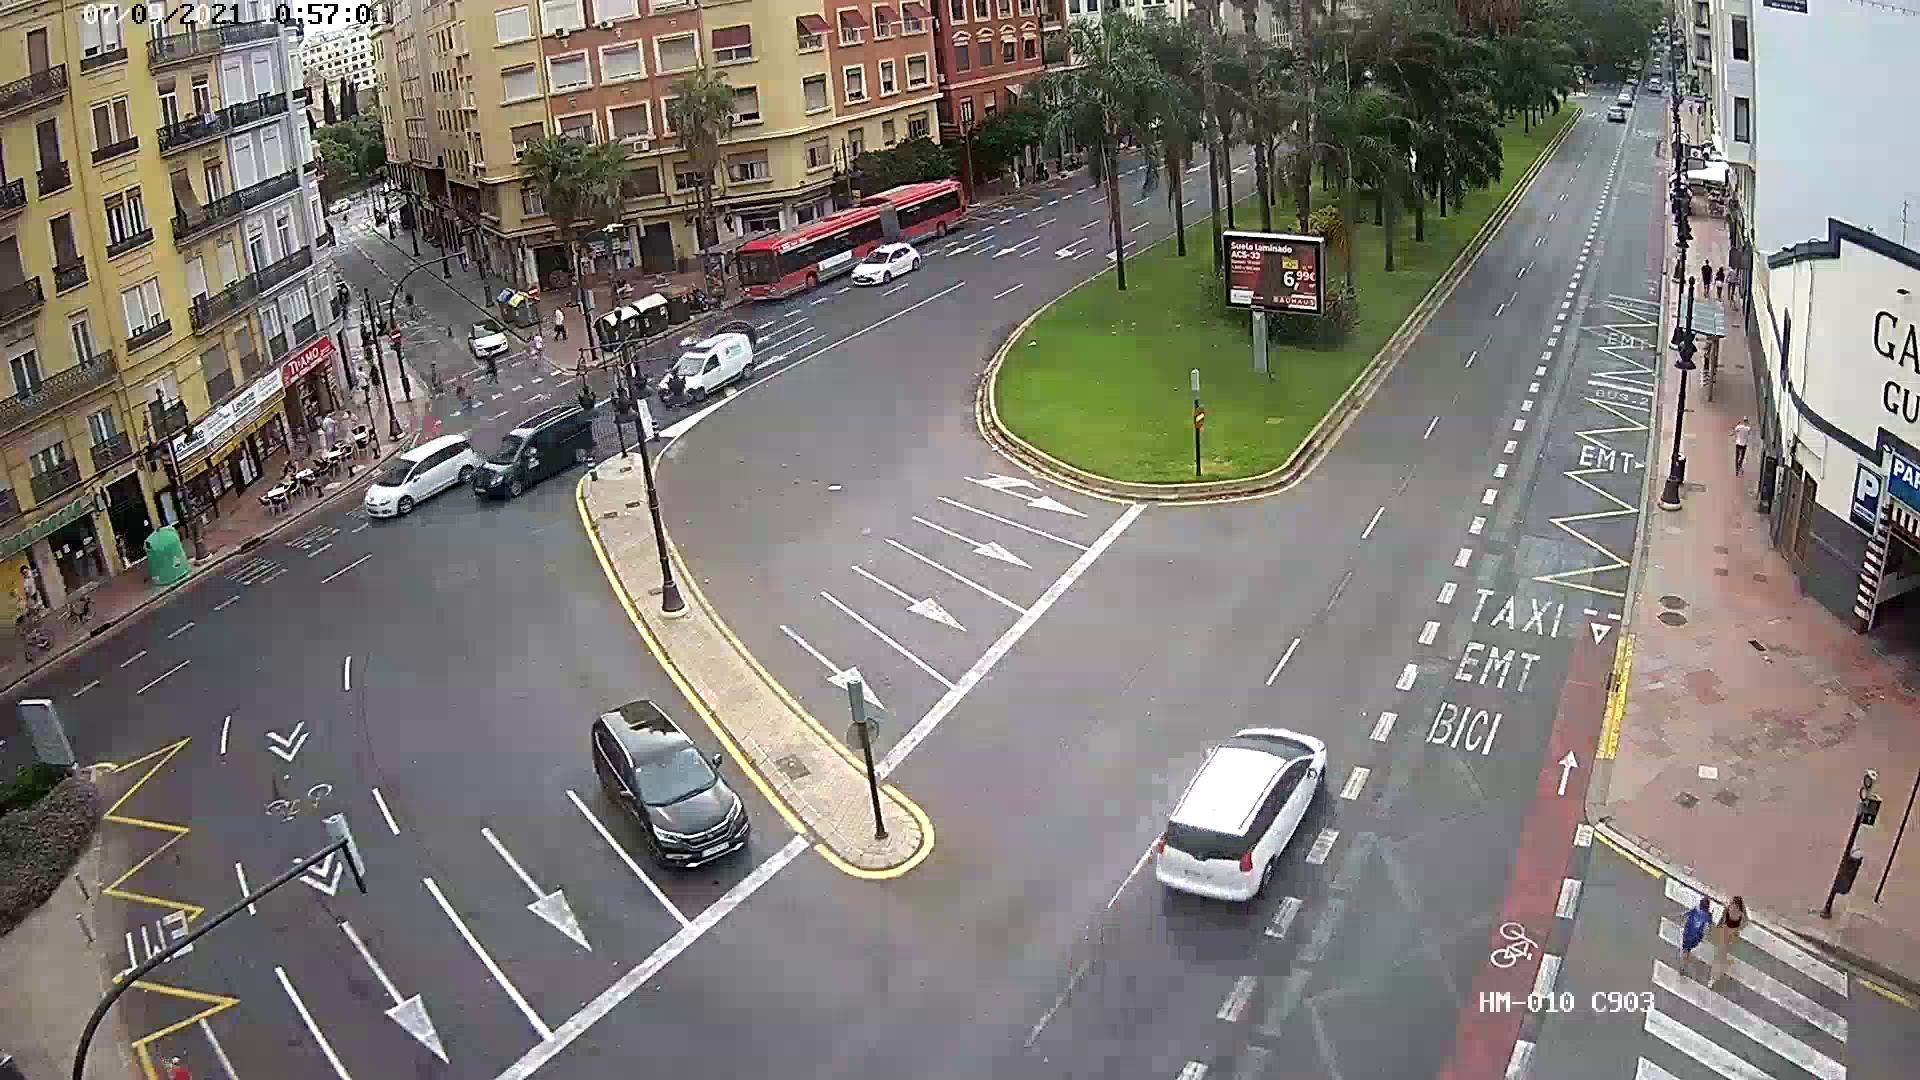Cars: (537, 683, 771, 881), (1162, 702, 1345, 923), (342, 444, 487, 514), (480, 419, 612, 491)
